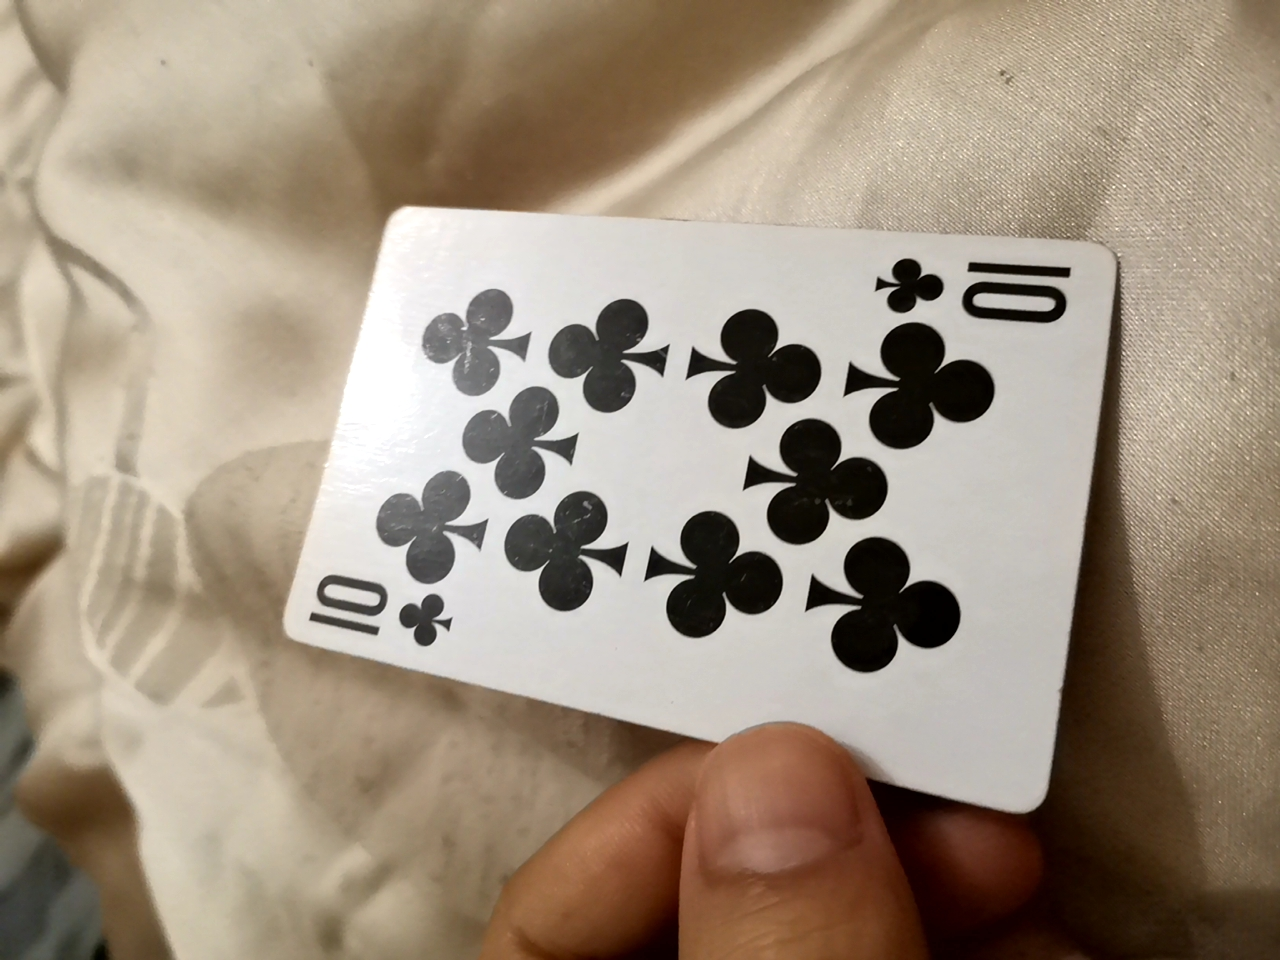mh 10: (281, 208, 1111, 817)
